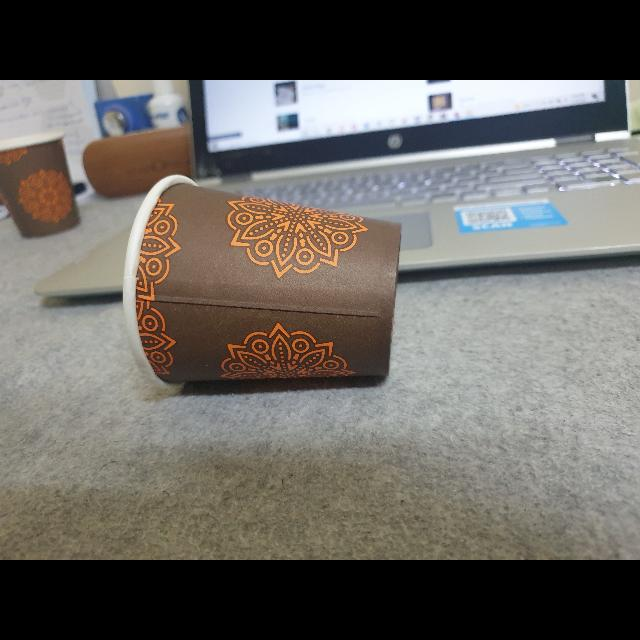trash: (118, 166, 404, 392), (0, 125, 82, 248)
